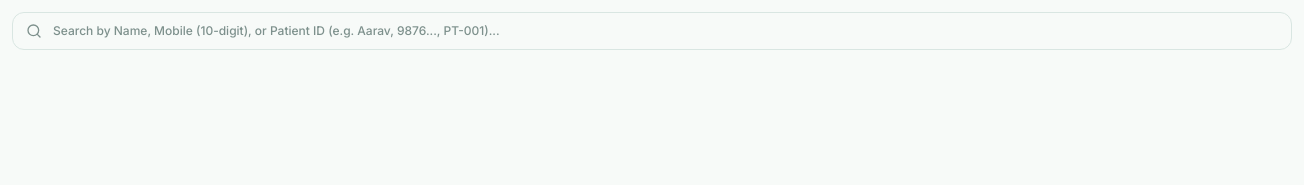
PatientSearchSelector & Senior Appointment Booking UX › PatientSearchSelector Unit Tests › filters patients by Name and selects patient on click
This screenshot has width=1304, height=185.
Later steps or results of the test are not shown.
Step 1. Replace the text in the dropdown with "Aarav" → x=652, y=31, box [12,12,1292,50]
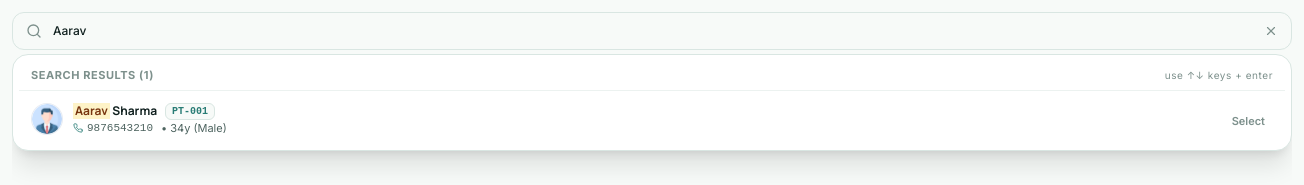
expect the list is shown: met, box [12,54,1292,151]
expect the option shows "Aarav Sharma": met, box [19,94,1285,144]
expect the number of options is 1: met, box [19,94,1285,144]
